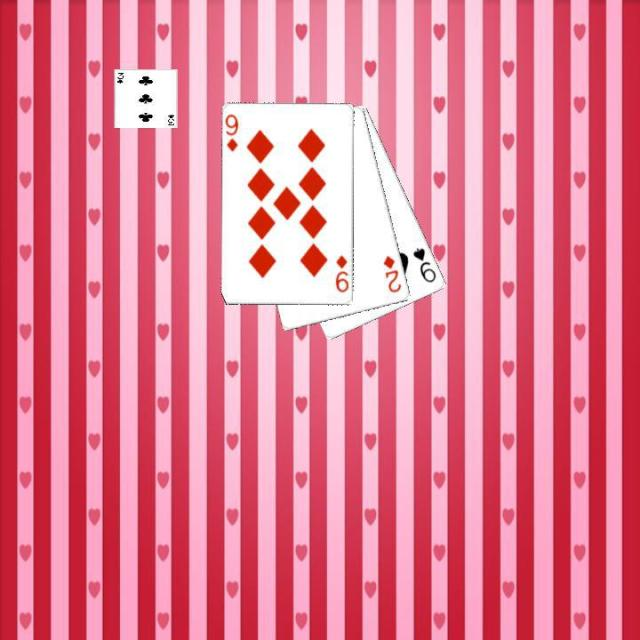2D: (379, 252, 404, 294)
9D: (332, 252, 350, 294), (223, 110, 240, 154)
9S: (409, 243, 438, 284)
